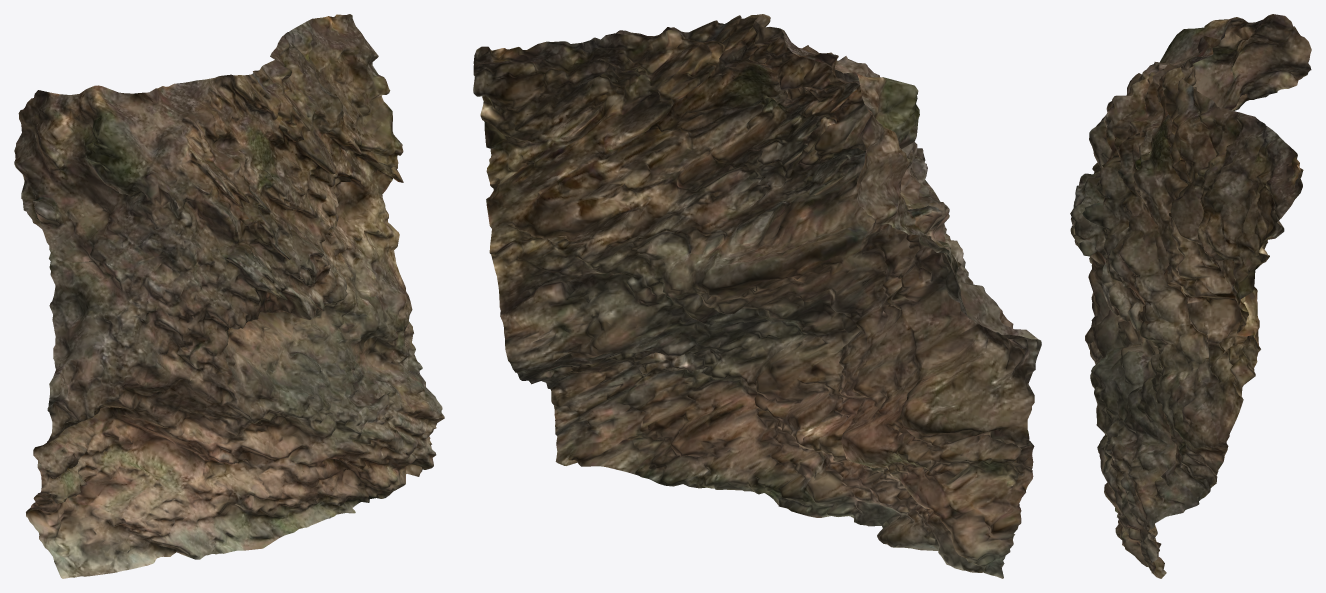
The model's file is mountainside-distant.glb.
3 views of the same model, side by side, from view 1: azimuth 30°, elevation 25°; view 2: azimuth 150°, elevation 25°; view 3: azimuth 270°, elevation 25° (orthographic). The views are drawn at different scales.
Parts seen in each view (by area): view 1: mountainside; view 2: mountainside; view 3: mountainside.
Boxes of the visible parts, x1,y1,x2,y2 form: mountainside: [14, 14, 444, 578]; mountainside: [473, 14, 1041, 578]; mountainside: [1070, 14, 1311, 578].
Bounding box in the file's own units: 10.21 × 10.52 × 5.25.
1 material, 1 textured.
